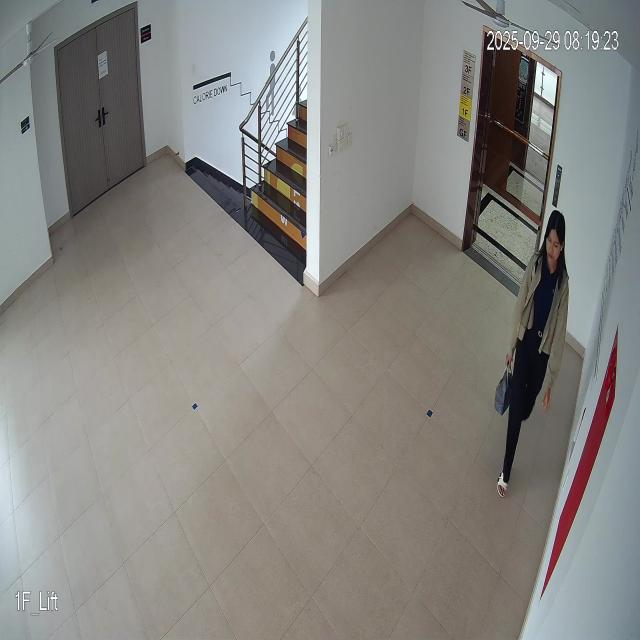face: (541, 210, 567, 268)
